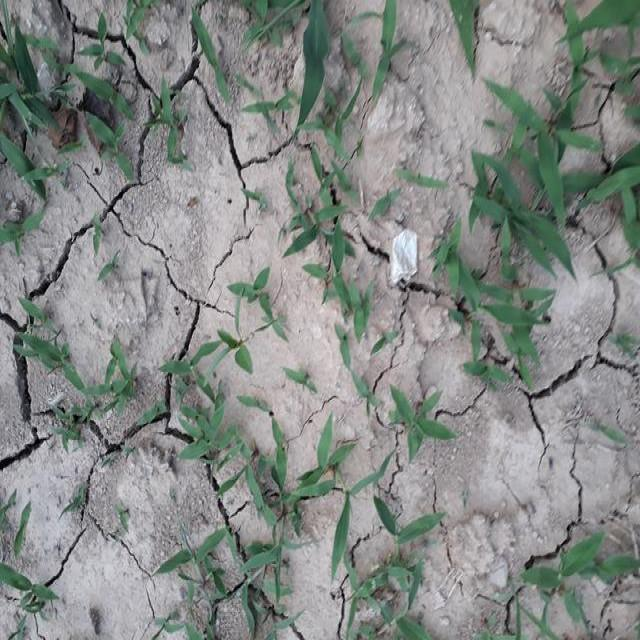weed: (468, 141, 640, 257), (256, 441, 380, 576), (0, 11, 56, 244), (294, 184, 368, 310), (6, 301, 79, 401), (482, 296, 554, 374), (390, 390, 458, 457), (174, 423, 237, 468), (226, 274, 286, 310)
